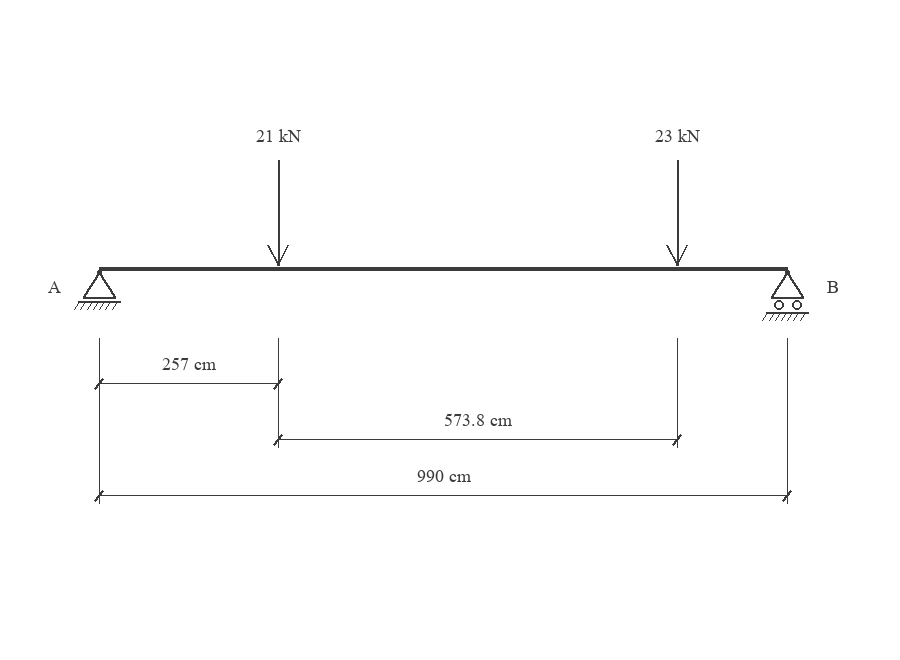pin_support: (74, 270, 121, 310)
point_load: (267, 160, 289, 266), (666, 160, 688, 266)
roller_support: (762, 270, 809, 321)
